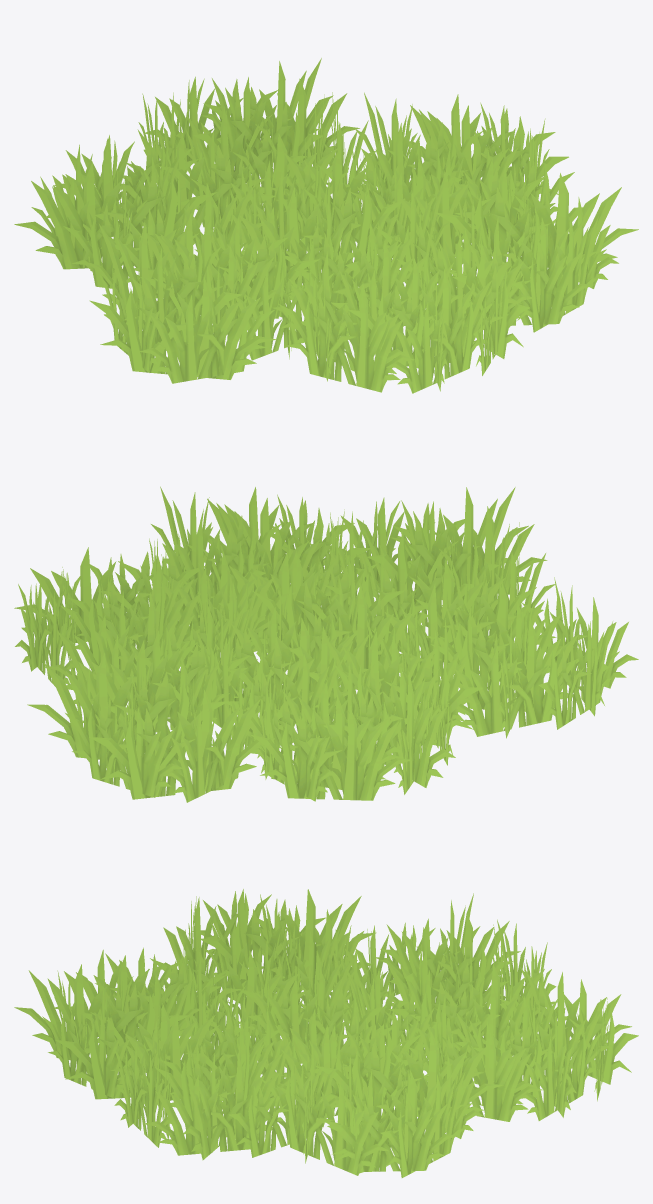
Rendered from SM_Env_Grass_Tall_Clump_04.glb.
3 views of the same model, one above another, from view 1: azimuth 30°, elevation 25°; view 2: azimuth 150°, elevation 25°; view 3: azimuth 270°, elevation 25° (orthographic). The views are drawn at different scales.
Visible parts, largest first — view 1: SM_Env_Grass_Tall_Clump_04; view 2: SM_Env_Grass_Tall_Clump_04; view 3: SM_Env_Grass_Tall_Clump_04.
Boxes of the visible parts, x1=… form: SM_Env_Grass_Tall_Clump_04: x1=14, y1=58, x2=638, y2=393; SM_Env_Grass_Tall_Clump_04: x1=14, y1=486, x2=638, y2=802; SM_Env_Grass_Tall_Clump_04: x1=14, y1=889, x2=638, y2=1177.
Bounding box in the file's own units: 4.13 × 0.9937 × 4.62.
Materials: 1 (1 with a texture image).
